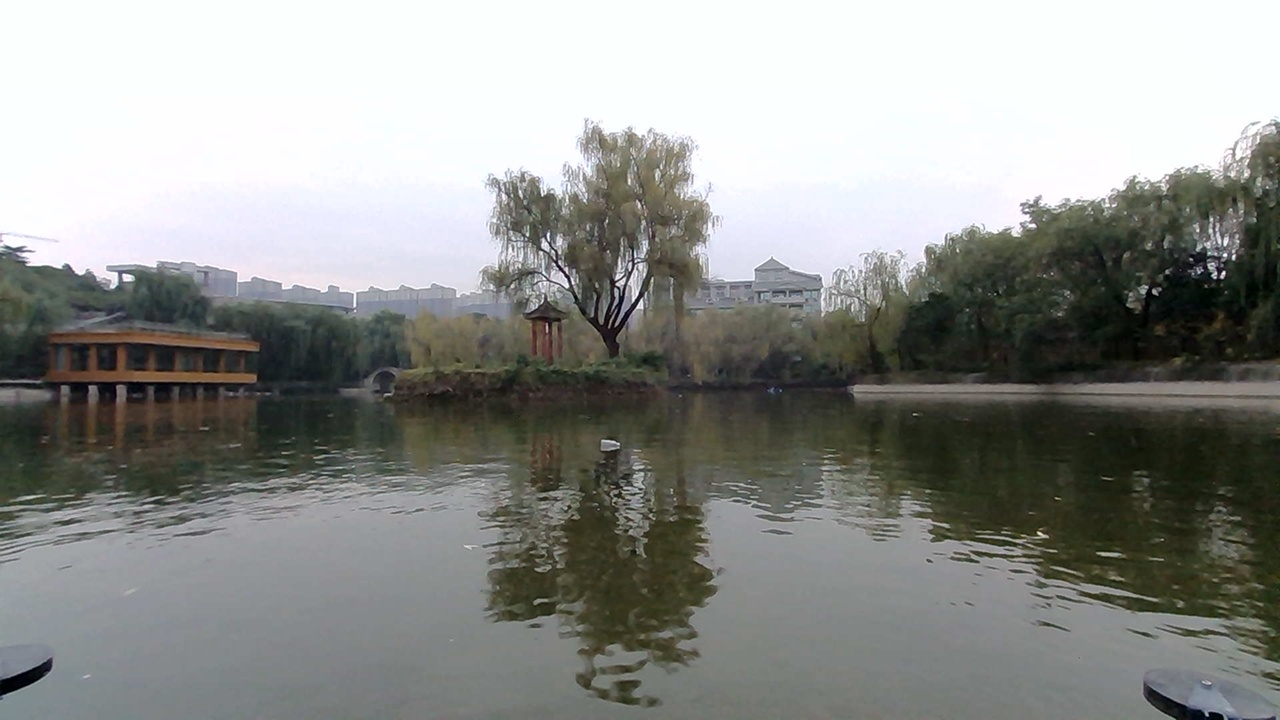bottle: (584, 427, 648, 460)
